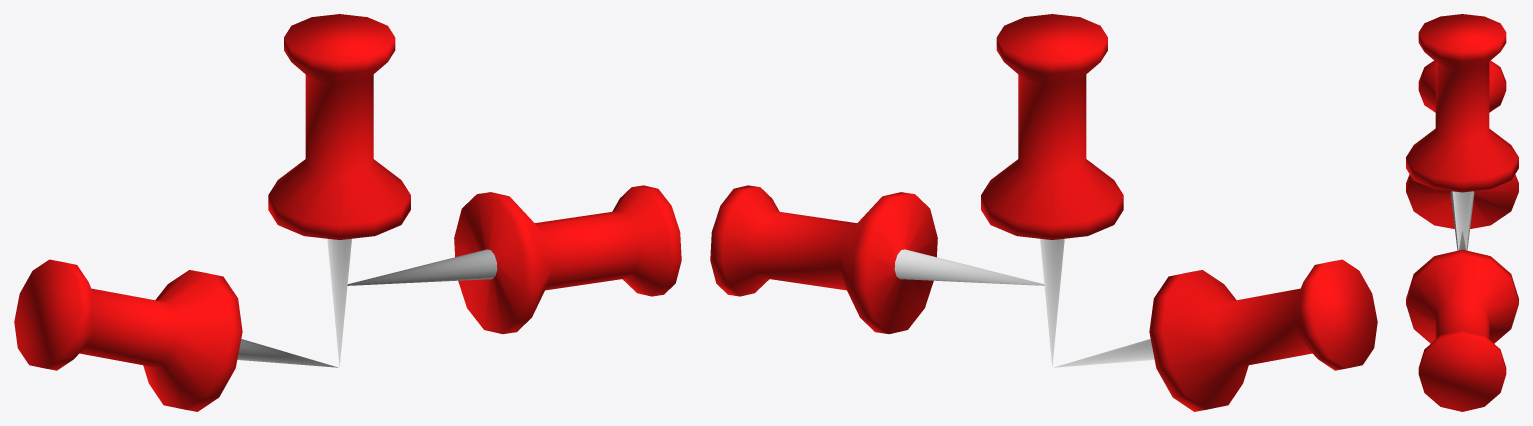
The model's file is tacks.FBX.
The picture shows the model from 3 angles, left to right: view 1: azimuth 30°, elevation 25°; view 2: azimuth 150°, elevation 25°; view 3: azimuth 270°, elevation 25°; orthographic projection. The views are drawn at different scales.
Visible parts, largest first — view 1: tack_floor_01, tack_floor_02, tack_01; view 2: tack_floor_01, tack_floor_02, tack_01; view 3: tack_01, tack_floor_02, tack_floor_01.
Part boxes in pixels (x1=…): tack_floor_01: x1=14, y1=259, x2=338, y2=411; tack_floor_02: x1=347, y1=185, x2=681, y2=334; tack_01: x1=268, y1=14, x2=410, y2=365; tack_floor_01: x1=1053, y1=259, x2=1377, y2=411; tack_floor_02: x1=710, y1=185, x2=1044, y2=334; tack_01: x1=981, y1=14, x2=1123, y2=365; tack_01: x1=1406, y1=14, x2=1518, y2=250; tack_floor_02: x1=1406, y1=231, x2=1518, y2=411; tack_floor_01: x1=1406, y1=60, x2=1518, y2=250.
Size of the model in its own units: 648 by 325 by 127.
